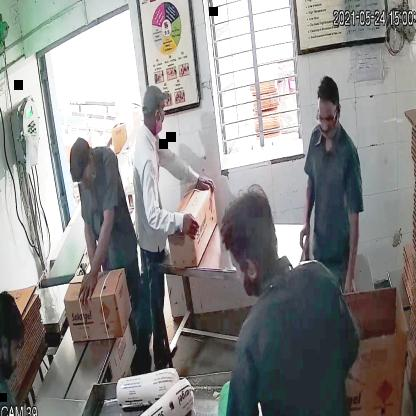goggles: (316, 107, 339, 132)
